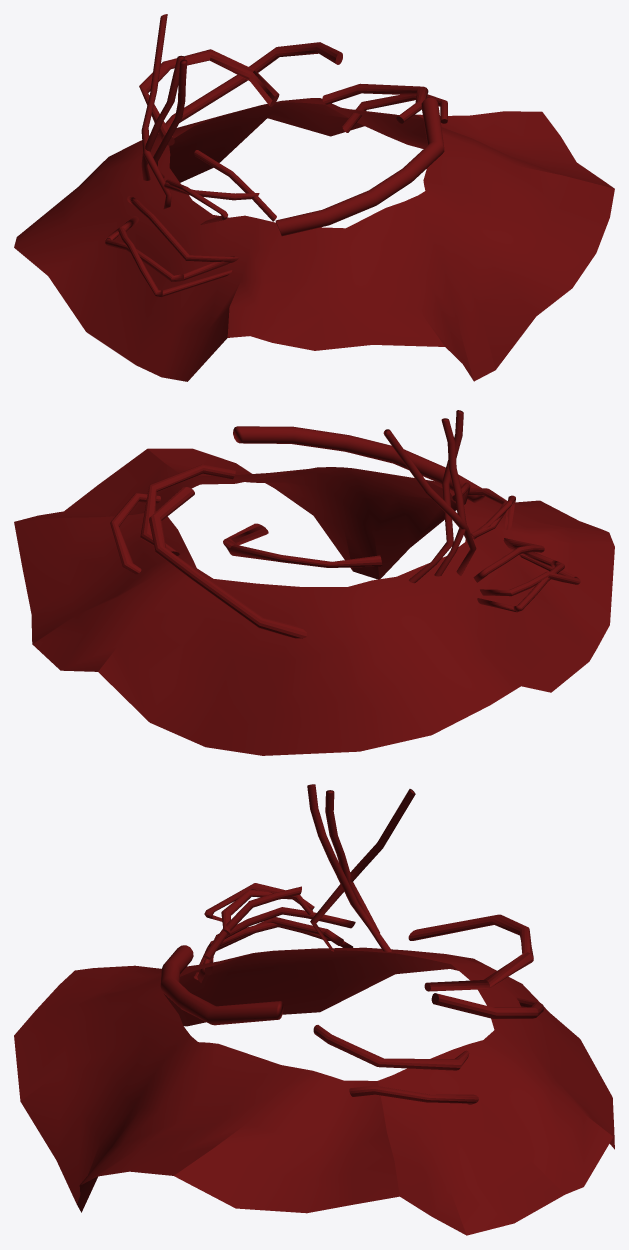
Rendered from tissu.obj.
3 renders of one model, top to bottom at view 1: azimuth 30°, elevation 25°; view 2: azimuth 150°, elevation 25°; view 3: azimuth 270°, elevation 25°, orthographic. The views are drawn at different scales.
Parts seen in each view (by area): view 1: tissu_corde_low_1, tissu_corde_low_2, tissu_corde_low_15, tissu_corde_low_13, tissu_corde_low_9, tissu_corde_low_12, tissu_corde_low_5, tissu_corde_low_14, tissu_corde_low_4, tissu_corde_low_3, tissu_corde_low_8, tissu_corde_low_10 (+3 smaller); view 2: tissu_corde_low_1, tissu_corde_low_2, tissu_corde_low_13, tissu_corde_low_15, tissu_corde_low_12, tissu_corde_low_9, tissu_corde_low_8, tissu_corde_low_10, tissu_corde_low_14, tissu_corde_low_4, tissu_corde_low_5, tissu_corde_low_3 (+2 smaller); view 3: tissu_corde_low_1, tissu_corde_low_2, tissu_corde_low_15, tissu_corde_low_12, tissu_corde_low_10, tissu_corde_low_13, tissu_corde_low_9, tissu_corde_low_14, tissu_corde_low_3, tissu_corde_low_8, tissu_corde_low_11, tissu_corde_low_5 (+3 smaller).
Part boxes in pixels (bbox=[...]): tissu_corde_low_1: bbox=[14, 98, 614, 381]; tissu_corde_low_2: bbox=[275, 97, 444, 236]; tissu_corde_low_15: bbox=[139, 49, 279, 145]; tissu_corde_low_13: bbox=[158, 42, 342, 133]; tissu_corde_low_9: bbox=[141, 14, 171, 208]; tissu_corde_low_12: bbox=[322, 83, 428, 123]; tissu_corde_low_5: bbox=[118, 216, 232, 296]; tissu_corde_low_14: bbox=[342, 94, 447, 132]; tissu_corde_low_4: bbox=[105, 219, 234, 281]; tissu_corde_low_3: bbox=[127, 196, 238, 262]; tissu_corde_low_8: bbox=[141, 55, 184, 180]; tissu_corde_low_10: bbox=[153, 59, 187, 177]; tissu_corde_low_1: bbox=[14, 448, 614, 755]; tissu_corde_low_2: bbox=[233, 426, 484, 503]; tissu_corde_low_13: bbox=[149, 487, 306, 638]; tissu_corde_low_15: bbox=[223, 523, 382, 567]; tissu_corde_low_12: bbox=[140, 464, 235, 555]; tissu_corde_low_9: bbox=[383, 429, 476, 575]; tissu_corde_low_8: bbox=[434, 418, 466, 576]; tissu_corde_low_10: bbox=[409, 410, 463, 583]; tissu_corde_low_14: bbox=[110, 493, 160, 574]; tissu_corde_low_4: bbox=[477, 540, 564, 612]; tissu_corde_low_5: bbox=[480, 554, 580, 596]; tissu_corde_low_3: bbox=[473, 538, 544, 582]; tissu_corde_low_1: bbox=[14, 947, 614, 1235]; tissu_corde_low_2: bbox=[160, 945, 283, 1025]; tissu_corde_low_15: bbox=[408, 914, 533, 991]; tissu_corde_low_12: bbox=[313, 1025, 469, 1070]; tissu_corde_low_10: bbox=[307, 784, 391, 951]; tissu_corde_low_13: bbox=[431, 993, 544, 1018]; tissu_corde_low_9: bbox=[310, 789, 415, 951]; tissu_corde_low_14: bbox=[349, 1085, 478, 1104]; tissu_corde_low_3: bbox=[197, 907, 355, 982]; tissu_corde_low_8: bbox=[325, 790, 379, 932]; tissu_corde_low_11: bbox=[203, 886, 301, 959]; tissu_corde_low_5: bbox=[193, 917, 343, 980].
Bounding box in the file's own units: 1.75 × 0.995 × 1.65.
